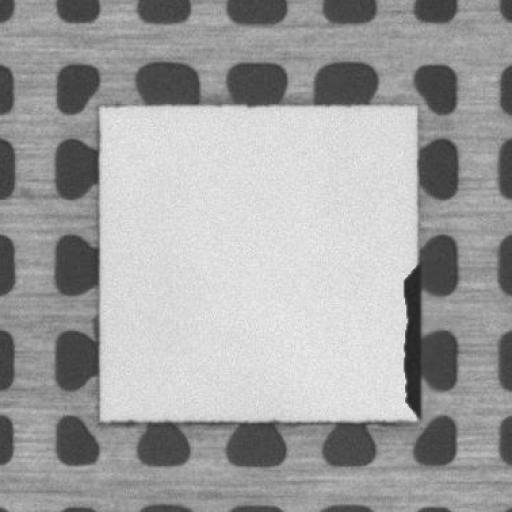DIE_BROKEN: (397, 264, 422, 420)
